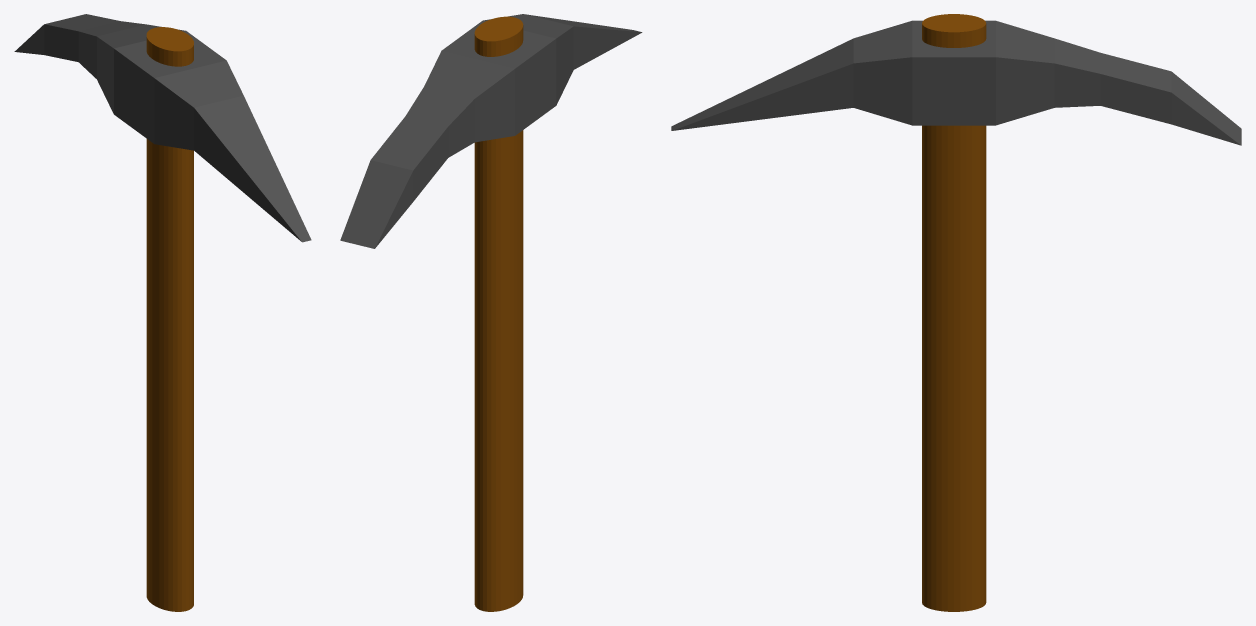
The model's file is stone_pickaxe.glb.
3 renders of one model, left to right at view 1: azimuth 30°, elevation 25°; view 2: azimuth 150°, elevation 25°; view 3: azimuth 270°, elevation 25°, orthographic. The views are drawn at different scales.
Parts seen in each view (by area): view 1: Cylinder, Cube; view 2: Cylinder, Cube; view 3: Cube, Cylinder.
Boxes of the visible parts, x1,y1,x2,y2 form: Cylinder: [146, 27, 193, 611]; Cube: [14, 14, 311, 242]; Cylinder: [474, 16, 523, 611]; Cube: [340, 14, 642, 248]; Cube: [671, 20, 1241, 145]; Cylinder: [922, 14, 986, 611].
Bounding box in the file's own units: 2 × 14.8 × 13.19.
